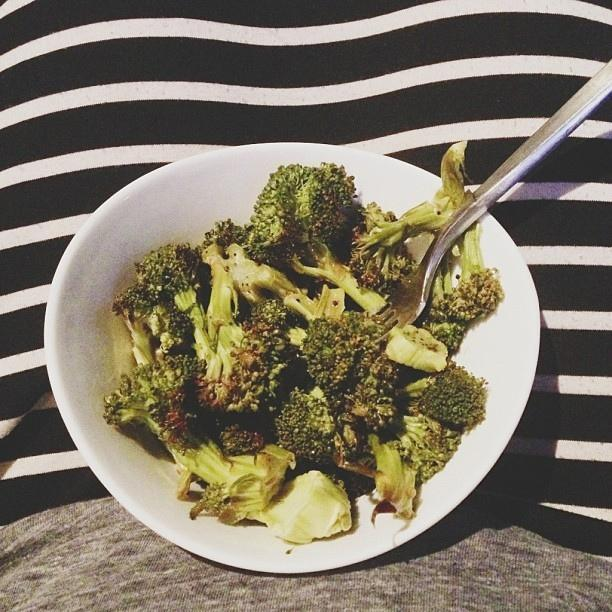broccoli: (102, 356, 296, 524), (247, 162, 388, 315), (344, 200, 454, 300), (134, 240, 216, 365), (188, 324, 300, 415), (193, 217, 258, 340), (246, 471, 352, 545), (395, 358, 489, 434), (438, 220, 504, 324), (301, 314, 389, 390), (274, 386, 346, 464), (368, 433, 419, 528), (422, 258, 467, 350), (342, 373, 399, 432), (385, 325, 448, 372), (147, 299, 196, 359), (282, 292, 318, 324)
